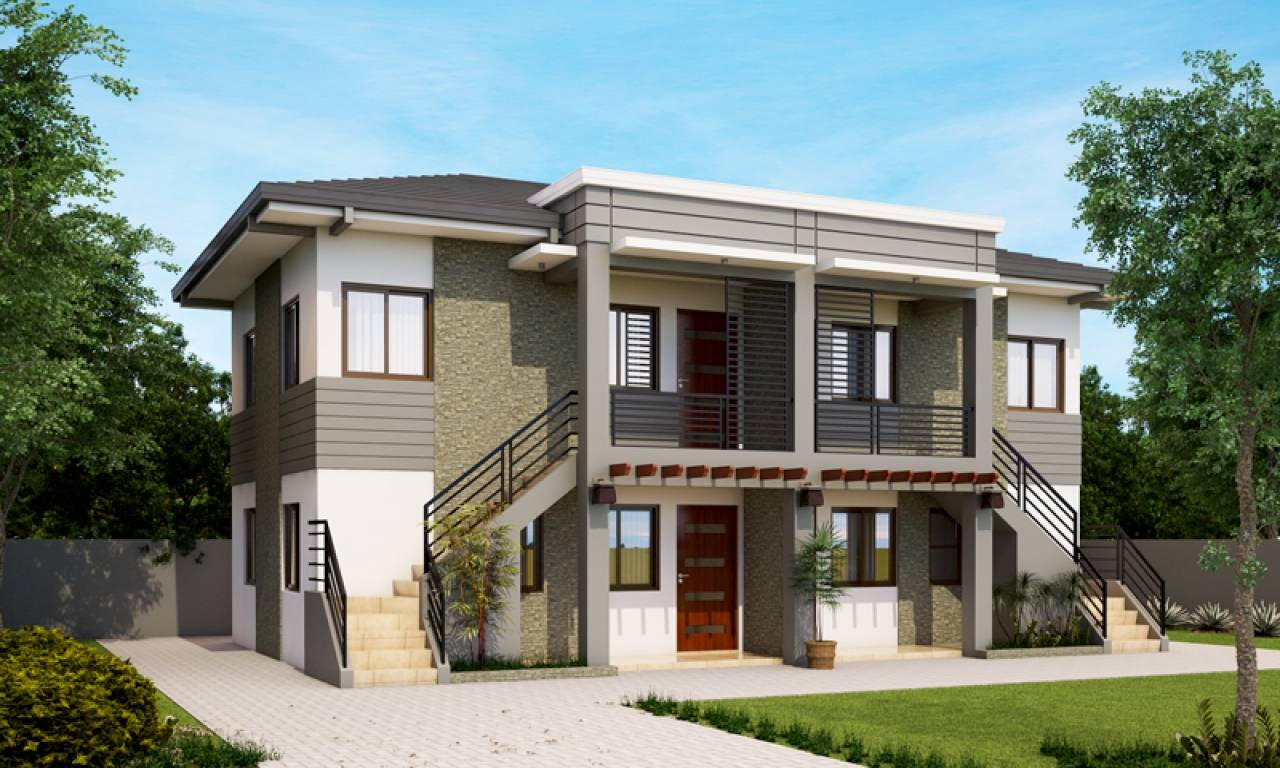Building House: (176, 160, 1161, 650)
